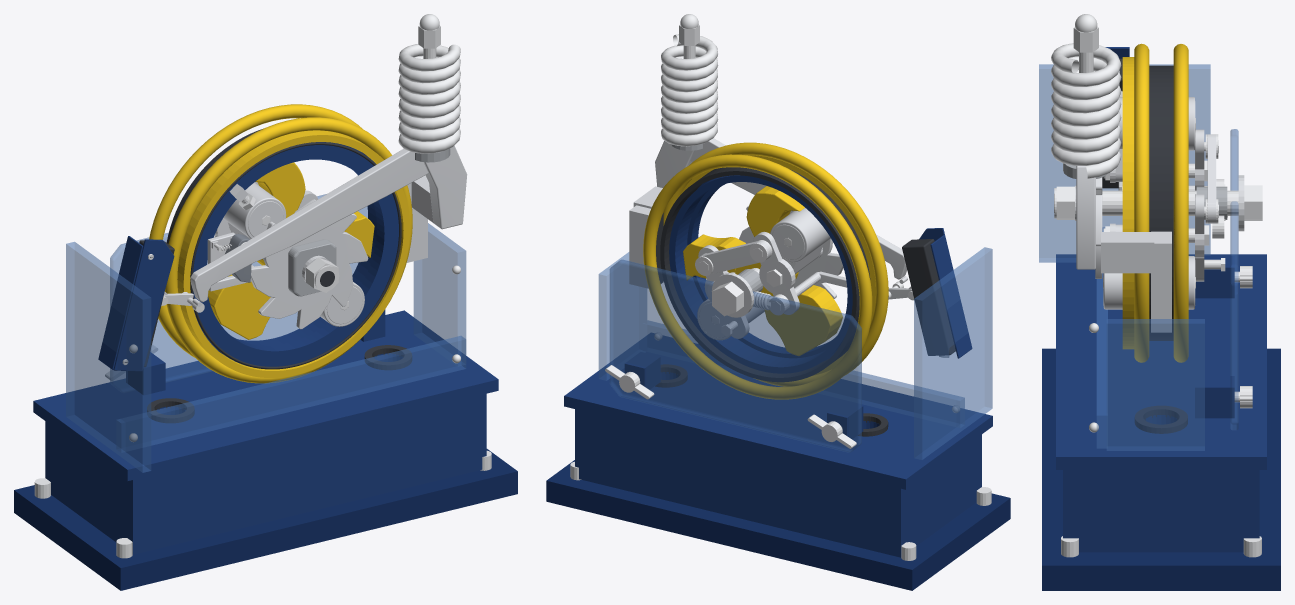
Rendered from overspeed_governor.glb.
The picture shows the model from 3 angles, left to right: view 1: azimuth 30°, elevation 25°; view 2: azimuth 150°, elevation 25°; view 3: azimuth 270°, elevation 25°; orthographic projection. The views are drawn at different scales.
Visible parts, largest first — view 1: BaseFrame, Pulley, Cover, Catch, Spring, Ratchet, PendA, PendB; view 2: BaseFrame, Cover, Pulley, Spring, Catch, PendA, PendB, PendTie, Ratchet, PendSpring; view 3: BaseFrame, Cover, Pulley, Spring, Catch, PendB, PendA, PendTie, Ratchet, PendSpring.
Part boxes in pixels (<box>): BaseFrame: <box>14,236,517,590</box>; Pulley: <box>149,104,412,383</box>; Cover: <box>66,194,466,472</box>; Catch: <box>190,145,467,306</box>; Spring: <box>398,14,460,162</box>; Ratchet: <box>250,199,368,329</box>; PendA: <box>215,182,286,259</box>; PendB: <box>261,190,364,326</box>; BaseFrame: <box>546,228,1010,590</box>; Cover: <box>598,247,992,459</box>; Pulley: <box>643,142,888,399</box>; Spring: <box>661,14,718,150</box>; Catch: <box>629,138,907,288</box>; PendA: <box>753,187,851,314</box>; PendB: <box>697,245,764,340</box>; PendTie: <box>695,240,772,275</box>; Ratchet: <box>739,206,843,298</box>; PendSpring: <box>707,281,789,315</box>; BaseFrame: <box>1042,47,1280,590</box>; Cover: <box>1039,64,1262,450</box>; Pulley: <box>1118,43,1194,362</box>; Spring: <box>1051,14,1121,178</box>; Catch: <box>1076,166,1171,332</box>; PendB: <box>1103,194,1225,309</box>; PendA: <box>1103,71,1225,190</box>; PendTie: <box>1205,134,1218,223</box>; Ratchet: <box>1095,177,1102,278</box>; PendSpring: <box>1212,179,1227,238</box>.
Size of the model in its own units: 0.365 by 0.4227 by 0.172.
